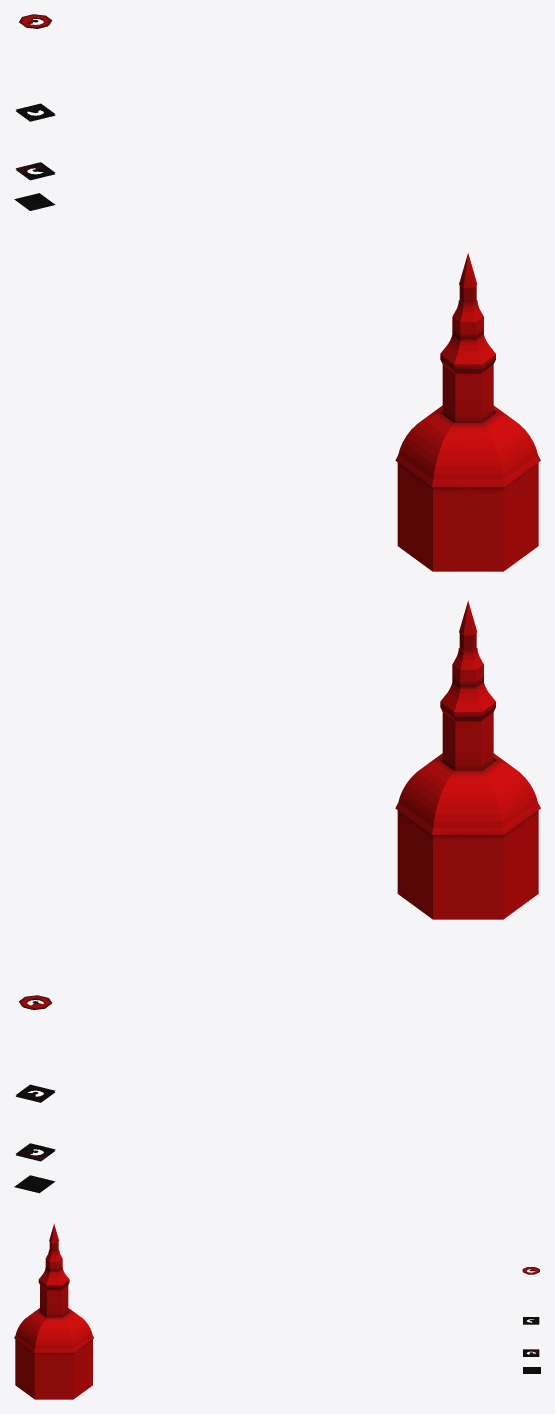
The model's file is TowerFloors_export.obj.
The picture shows the model from 3 angles, top to bottom: view 1: azimuth 30°, elevation 25°; view 2: azimuth 150°, elevation 25°; view 3: azimuth 270°, elevation 25°; orthographic projection. The views are drawn at different scales.
Visible parts, largest first — view 1: MainBuildingBase, MainBuildingBigRoof, MainBuildingUpperRoof, MainBuildingLowerTower, TowerFloors; view 2: MainBuildingBase, MainBuildingBigRoof, MainBuildingUpperRoof, MainBuildingLowerTower, TowerFloors; view 3: MainBuildingBase, MainBuildingBigRoof, MainBuildingUpperRoof, MainBuildingLowerTower, TowerFloors.
Part boxes in pixels (box(x1,y1,x2,y2)): MainBuildingBase: box(397, 462, 538, 571); MainBuildingBigRoof: box(395, 405, 540, 487); MainBuildingUpperRoof: box(440, 253, 495, 373); MainBuildingLowerTower: box(442, 365, 493, 422); TowerFloors: box(14, 14, 55, 210); MainBuildingBase: box(397, 810, 538, 919); MainBuildingBigRoof: box(395, 753, 540, 834); MainBuildingUpperRoof: box(440, 600, 495, 721); MainBuildingLowerTower: box(442, 712, 494, 770); TowerFloors: box(14, 995, 55, 1193); MainBuildingBase: box(15, 1339, 92, 1399); MainBuildingBigRoof: box(14, 1308, 93, 1352); MainBuildingUpperRoof: box(38, 1223, 69, 1290); MainBuildingLowerTower: box(40, 1285, 68, 1317); TowerFloors: box(522, 1267, 540, 1373).
Size of the model in its own units: 21.43 by 55 by 162.
